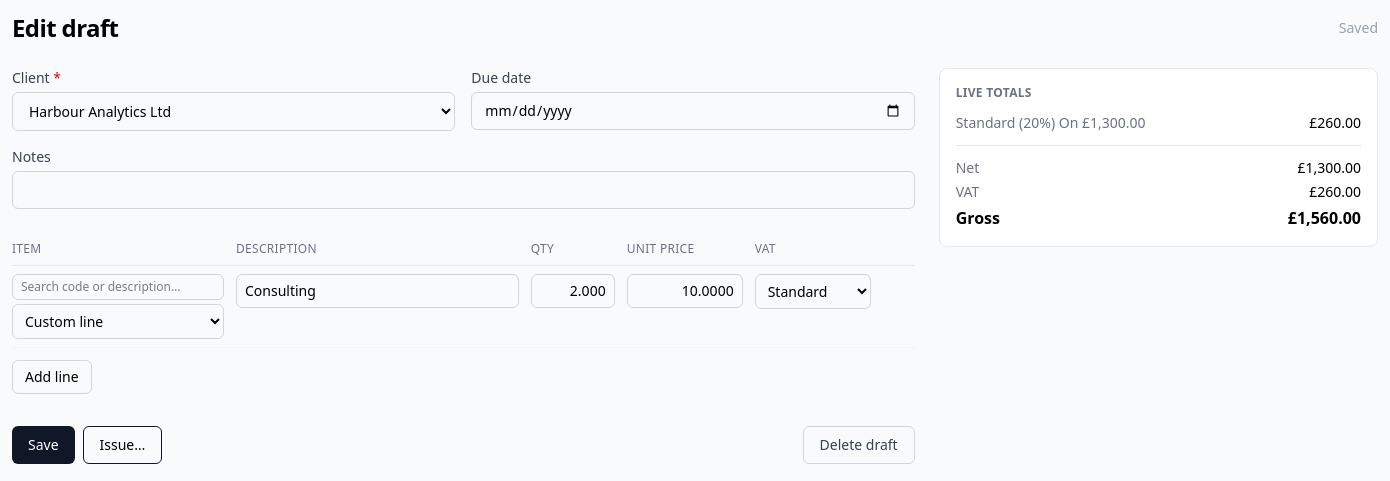
Test case: invoice editor live totals › drops stale totals the moment the lines change
The image size is (1390, 481).
Check: the text with test id "total-net" reads "£1,300.00", box [1297,158,1361,177]
Type " extra" into the field named "Description 1" at {"x": 377, "y": 291}, box [236,274,519,308]
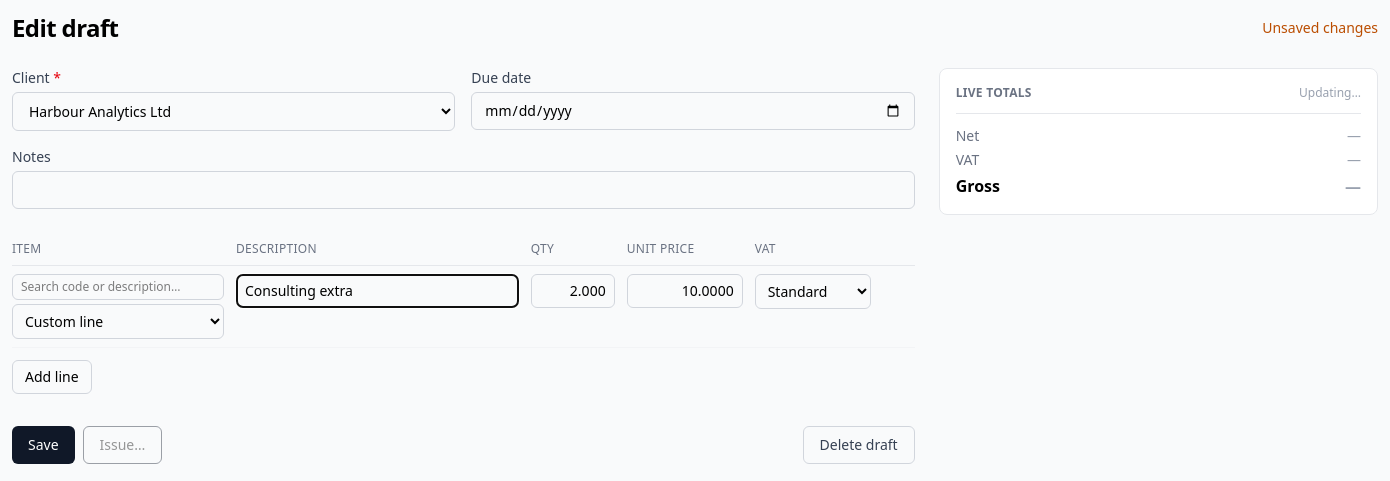
Check: the element with test id "total-net" reads "—", box [1347,126,1361,145]
